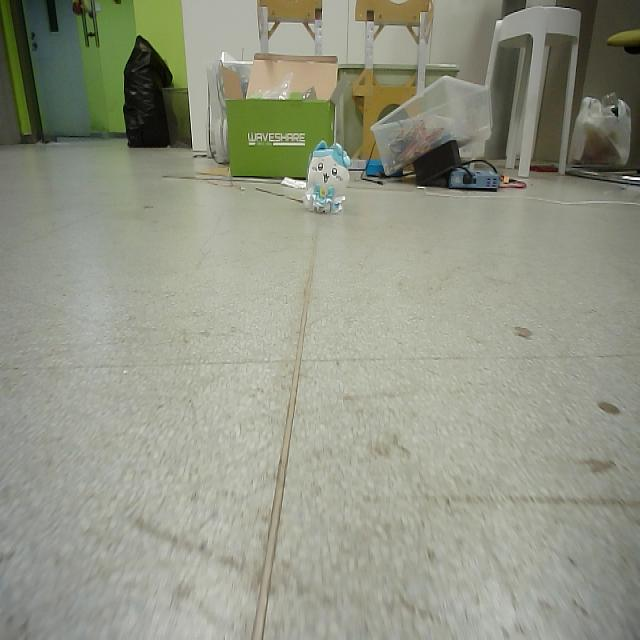xiaoba: (304, 136, 352, 217)
